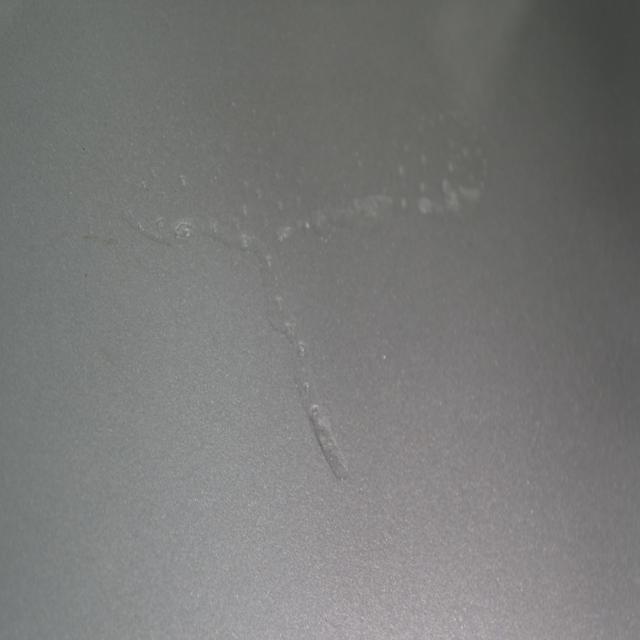runs: (89, 88, 492, 479)
